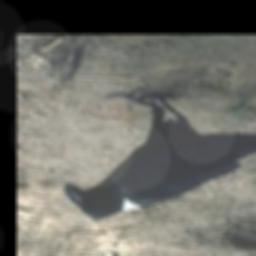Crow: (64, 88, 256, 223)
